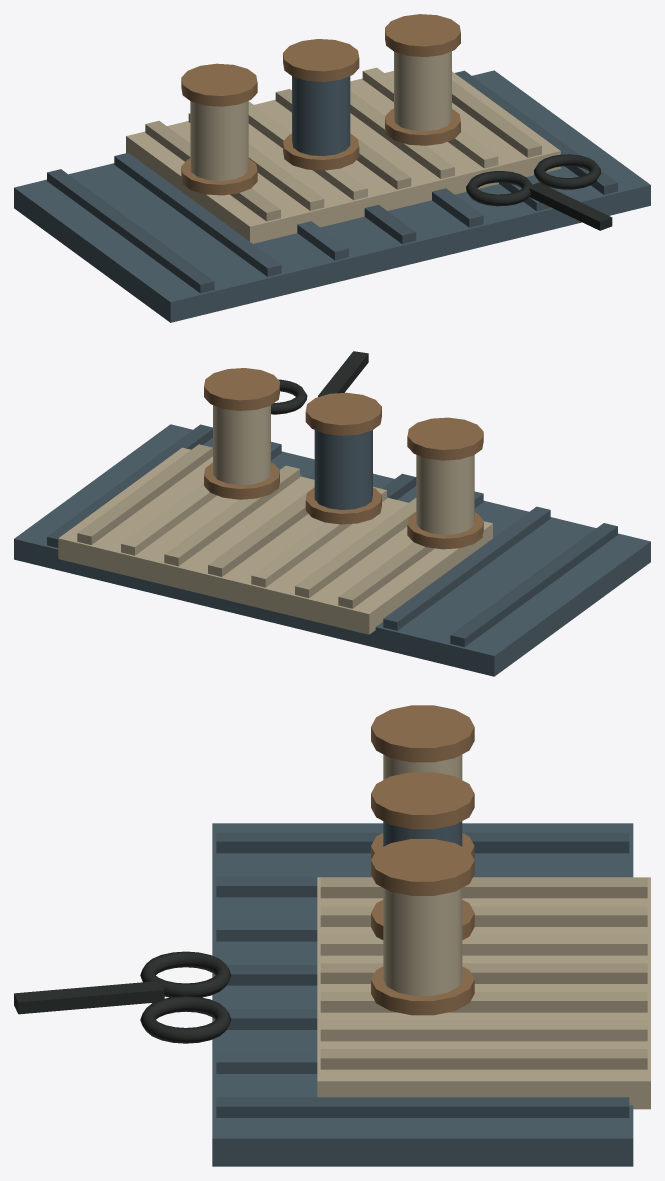
File: obj-work.glb
The picture shows the model from 3 angles, top to bottom: view 1: azimuth 30°, elevation 25°; view 2: azimuth 150°, elevation 25°; view 3: azimuth 270°, elevation 25°; orthographic projection. The views are drawn at different scales.
Parts seen in each view (by area): view 1: obj-work-blue, obj-work-linen, obj-work-woodLight, obj-work-iron; view 2: obj-work-linen, obj-work-blue, obj-work-woodLight, obj-work-iron; view 3: obj-work-blue, obj-work-linen, obj-work-woodLight, obj-work-iron.
Boxes of the visible parts, bbox=[...] form: obj-work-blue: bbox=[14, 70, 650, 322]; obj-work-linen: bbox=[126, 51, 560, 243]; obj-work-woodLight: bbox=[181, 14, 460, 195]; obj-work-iron: bbox=[466, 154, 612, 230]; obj-work-linen: bbox=[58, 405, 492, 634]; obj-work-blue: bbox=[14, 424, 650, 676]; obj-work-woodLight: bbox=[204, 368, 483, 549]; obj-work-iron: bbox=[271, 351, 368, 414]; obj-work-blue: bbox=[212, 821, 633, 1166]; obj-work-linen: bbox=[317, 754, 650, 1109]; obj-work-woodLight: bbox=[371, 705, 474, 1015]; obj-work-iron: bbox=[14, 951, 231, 1043].
Bounding box in the file's own units: 0.85 × 0.2615 × 0.7258.
